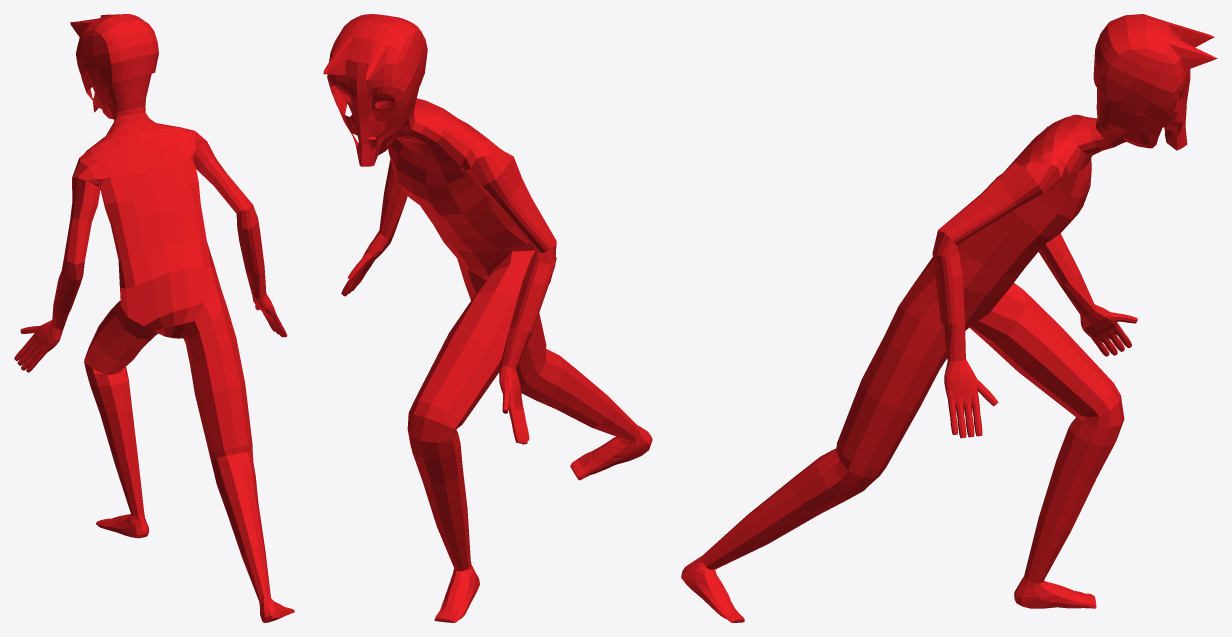
The model's file is saltoadelanteE_000092.obj.
3 views of the same model, side by side, from view 1: azimuth 30°, elevation 25°; view 2: azimuth 150°, elevation 25°; view 3: azimuth 270°, elevation 25° (orthographic). The views are drawn at different scales.
Visible parts, largest first — view 1: Plane.002_Plane.001; view 2: Plane.002_Plane.001; view 3: Plane.002_Plane.001.
Part boxes in pixels (<box>): Plane.002_Plane.001: <box>14,14,294,622</box>; Plane.002_Plane.001: <box>323,14,652,622</box>; Plane.002_Plane.001: <box>681,14,1217,622</box>.
Size of the model in its own units: 2.6 by 5.9 by 4.75.
